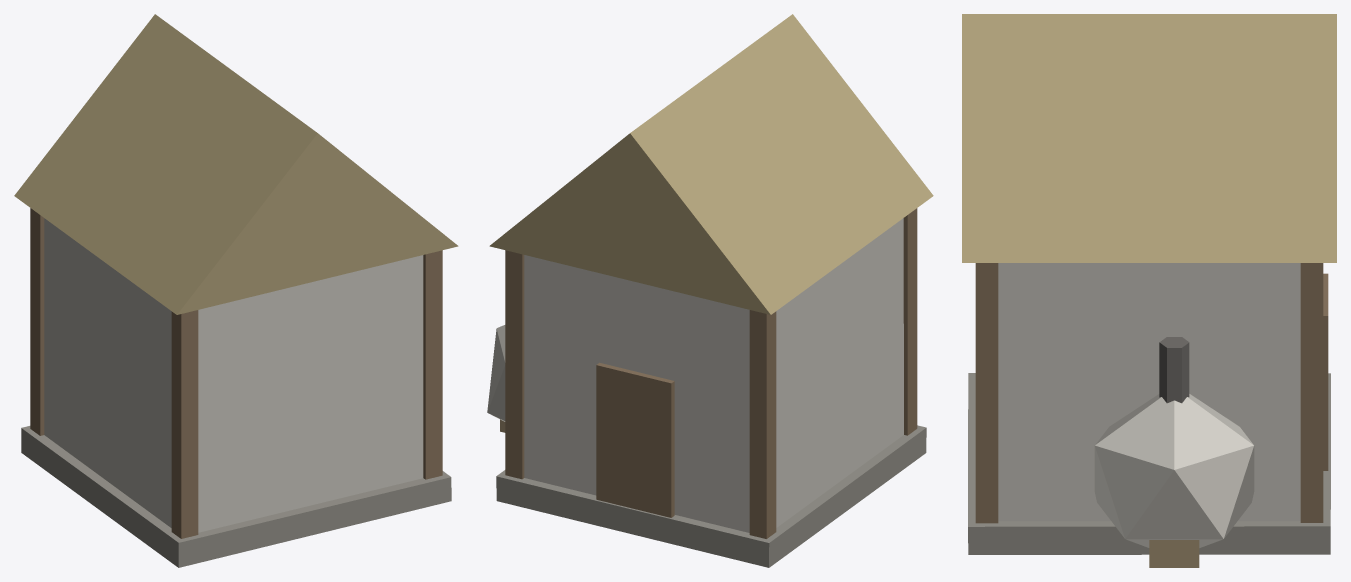
The model's file is chalkhouse.glb.
3 renders of one model, left to right at view 1: azimuth 30°, elevation 25°; view 2: azimuth 150°, elevation 25°; view 3: azimuth 270°, elevation 25°, orthographic. The views are drawn at different scales.
Parts seen in each view (by area): view 1: chalkhouse; view 2: chalkhouse; view 3: chalkhouse.
Part boxes in pixels (x1,y1,x2,y2): chalkhouse: (14, 14, 458, 567); chalkhouse: (487, 14, 933, 567); chalkhouse: (962, 14, 1336, 567).
Bounding box in the file's own units: 3.67 × 4.1 × 3.
